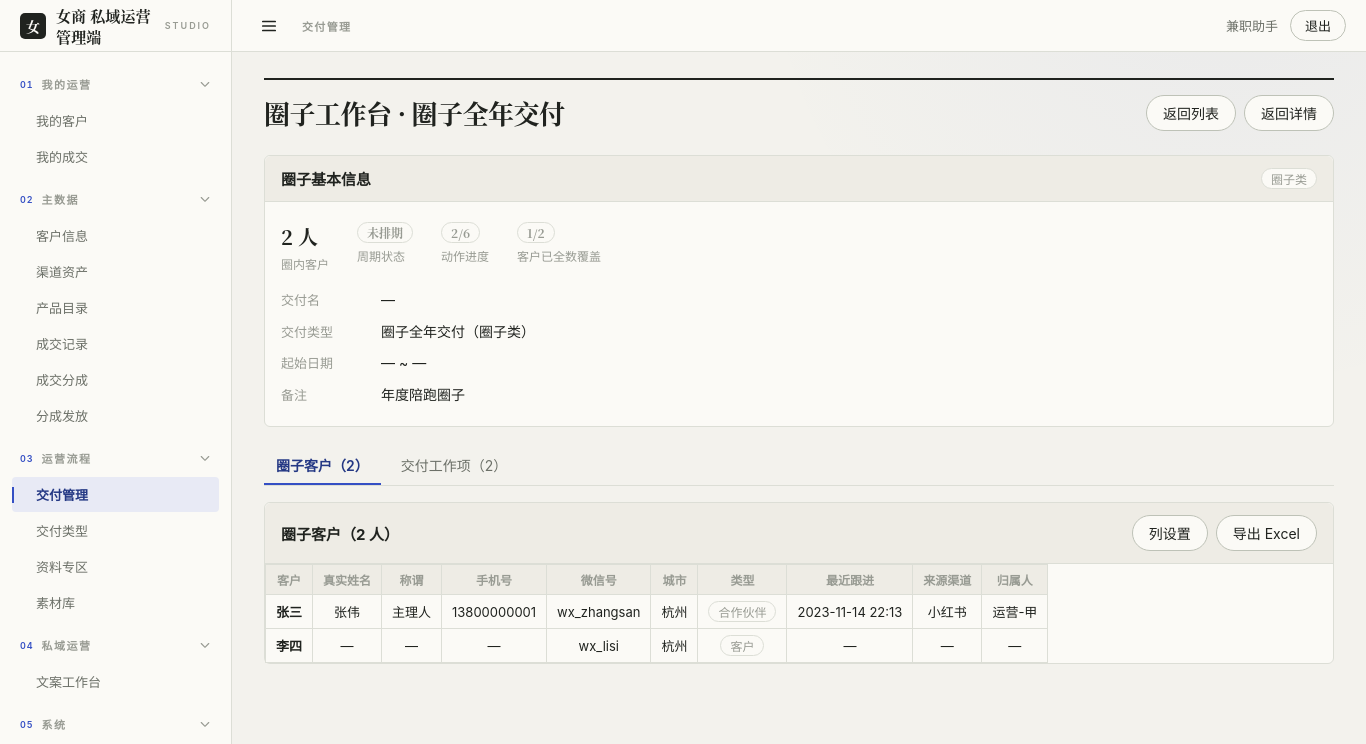
圈子工作台页（/deliveries/:id/circle） › 渲染：基本信息 + Tab 分区；客户表在圈子客户 tab、甘特/todo 在交付工作项 tab；assistant 只读
Expected: the heading "圈子工作台 · 圈子全年交付" is shown, [264,94,564,131]
Expected: the heading "圈子基本信息" is shown, [281,168,371,189]
Click the tab "交付工作项（2）" at x=454, y=466, box [389,447,519,485]
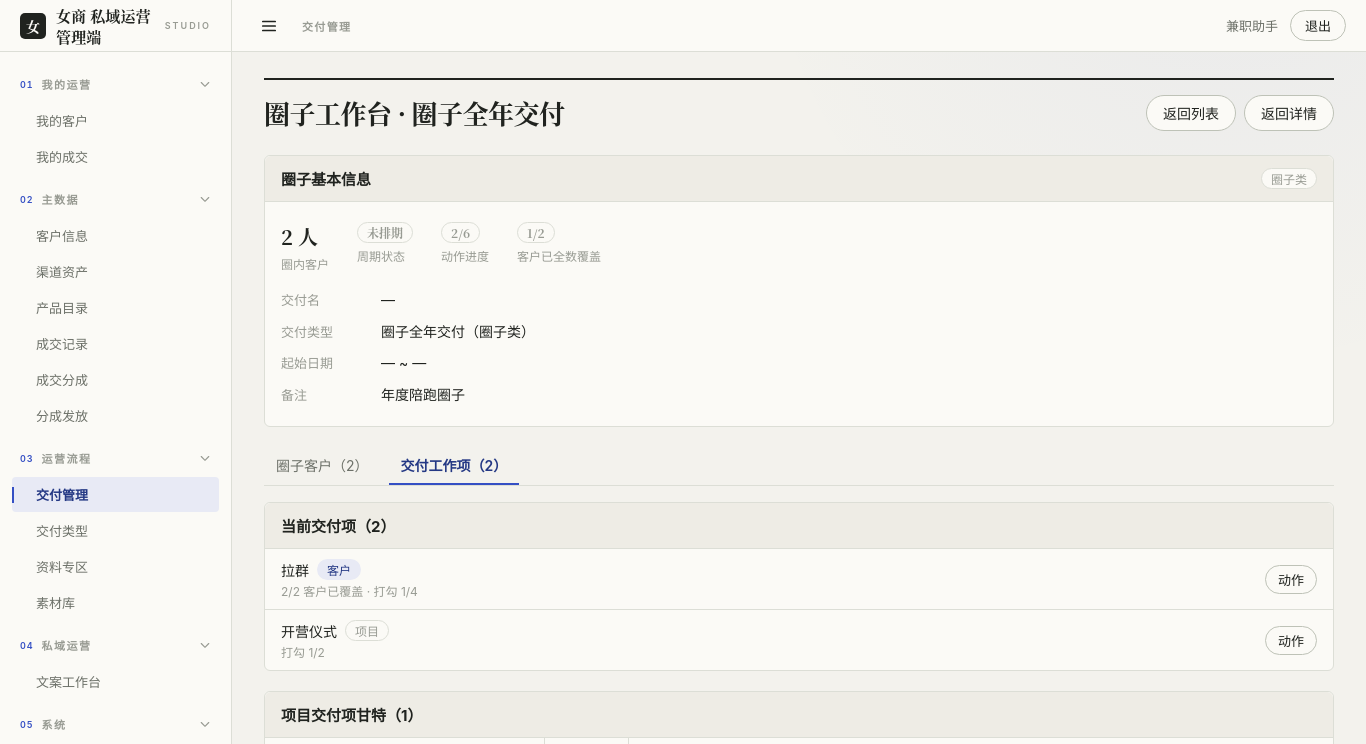
Expected: the heading "当前交付项（2）" is shown, [281,515,396,536]
Expected: the text "开营仪式" is shown, [281,622,337,640]
Expected: the heading "项目交付项甘特（1）" is shown, [281,704,422,725]
Click the tab "圈子客户（2）" at x=322, y=466, box [264,447,380,485]
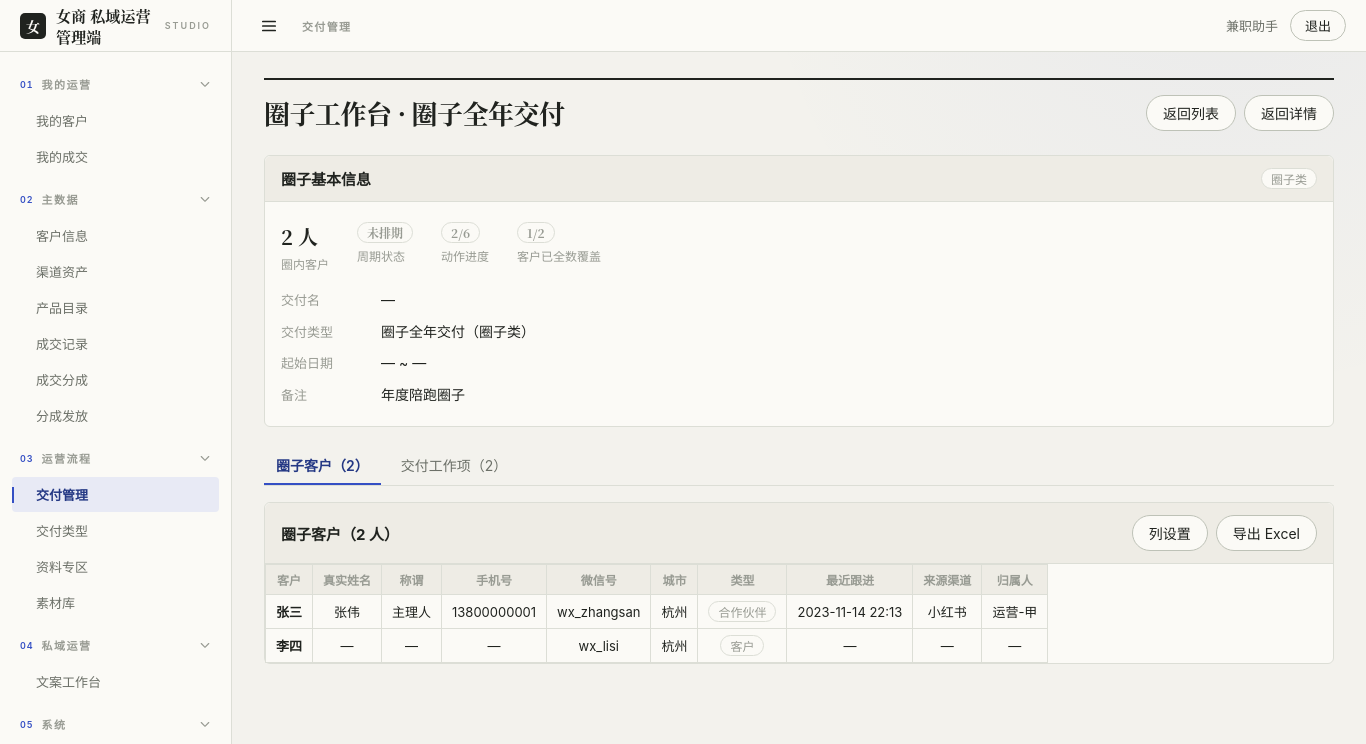
Expected: the button "导出 Excel" is shown, [1216,515,1317,551]
